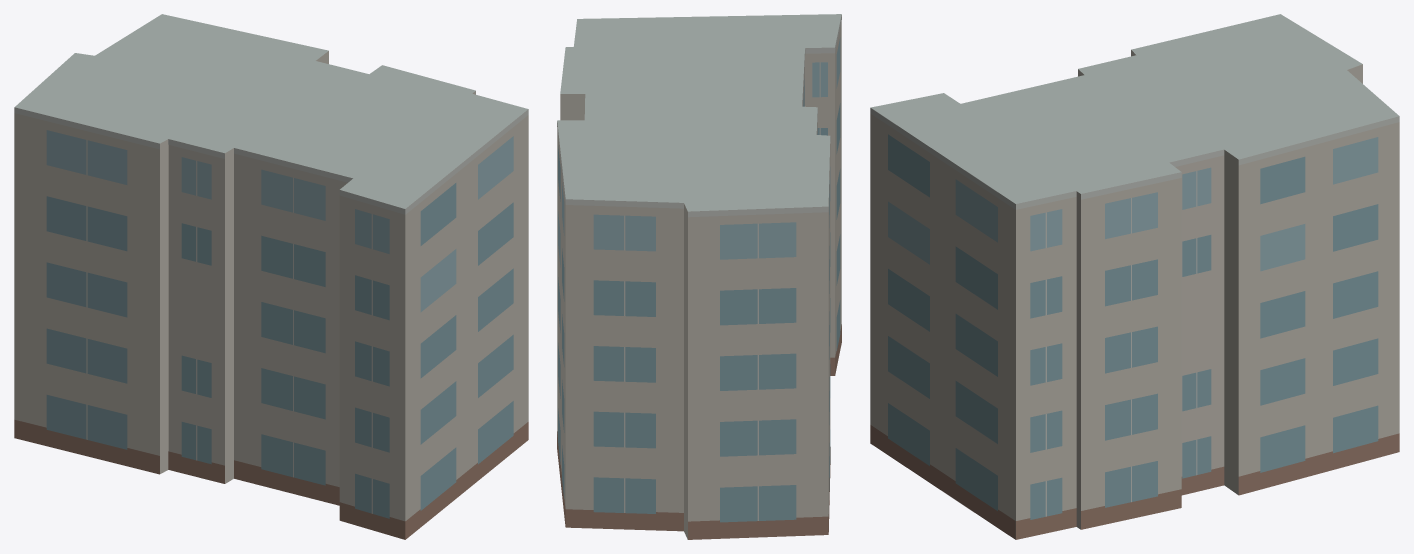
Rendered from survey-upis-32618748.glb.
3 renders of one model, left to right at view 1: azimuth 30°, elevation 25°; view 2: azimuth 150°, elevation 25°; view 3: azimuth 270°, elevation 25°, orthographic. The views are drawn at different scales.
Visible parts, largest first — view 1: survey-upis-32618748.tmp; view 2: survey-upis-32618748.tmp; view 3: survey-upis-32618748.tmp.
Boxes of the visible parts, x1,y1,x2,y2 form: survey-upis-32618748.tmp: (14,14,528,539); survey-upis-32618748.tmp: (557,14,841,539); survey-upis-32618748.tmp: (870,14,1399,539).
Size of the model in its own units: 17.13 by 14.1 by 20.15.
